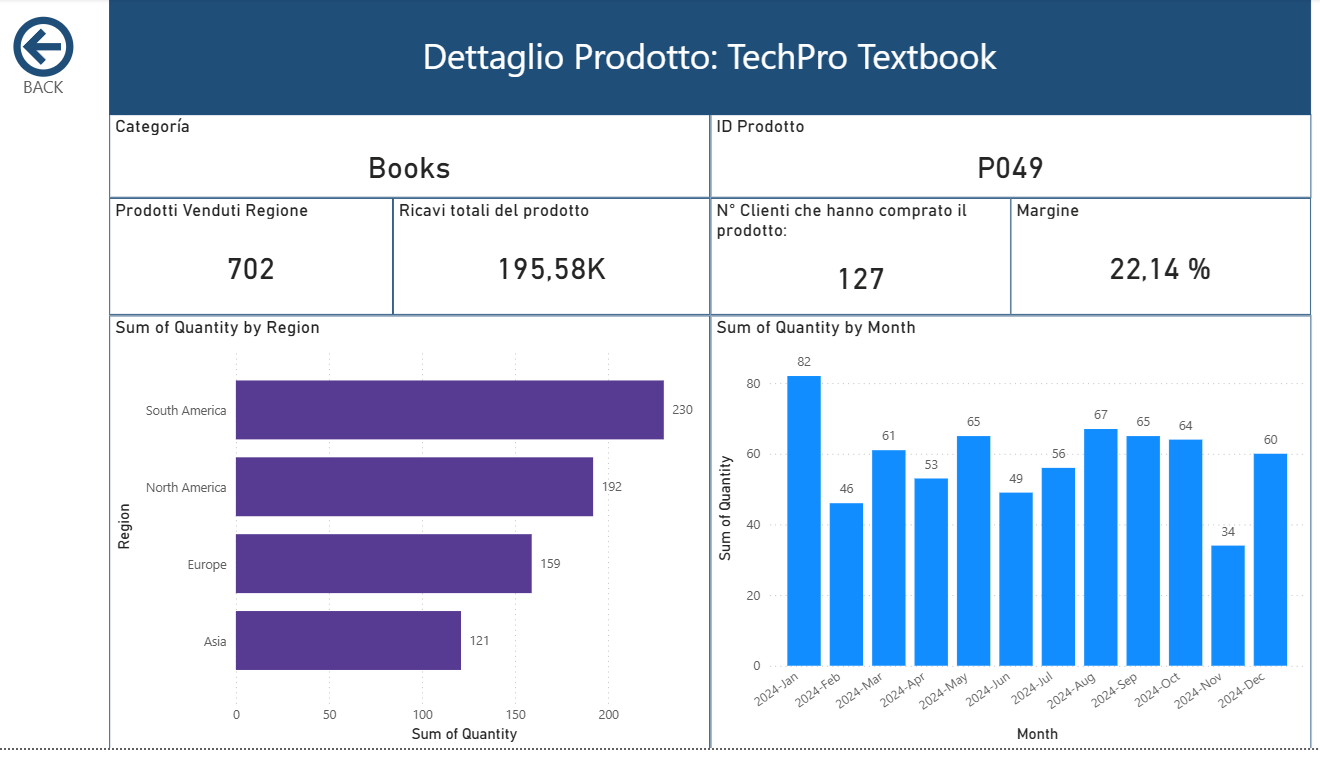

This screenshot's page, from the dashboard's own definition file:
{"tool":"powerbi","page":{"name":"DT Prodotto","canvas":[1280,720],"ordinal":4},"visuals":[{"type":"card","title":" Categoría ","fields":{"Values":["Min(Prodotti.Category)"]},"box":[112,112,576,80],"z":0},{"type":"actionButton","box":[0,0,96,112],"z":1000},{"type":"card","title":"ID Prodotto","fields":{"Values":["Min(Prodotti.ProductID)"]},"box":[688,112,576,80],"z":2000},{"type":"card","title":"Prodotti Venduti Regione","fields":{"Values":["Sum(Transazioni.Quantity)"]},"box":[112,192,272,112],"z":3000},{"type":"card","title":"Ricavi totali del prodotto","fields":{"Values":["Transazioni.Ricavi"]},"box":[384,192,304,112],"z":4000},{"type":"card","title":"N° Clienti che hanno comprato il prodotto:","fields":{"Values":["Transazioni.N° Clienti Prodotto"]},"box":[688,192,288,112],"z":5000},{"type":"clusteredBarChart","fields":{"Category":["Clienti.Region"],"Y":["Sum(Transazioni.Quantity)"]},"box":[112,304,576,416],"z":6000},{"type":"clusteredColumnChart","fields":{"Category":["Date.Month"],"Y":["Sum(Transazioni.Quantity)"]},"box":[688,304,576,416],"z":7000},{"type":"card","fields":{"Values":["Clienti.Titolo DT Prodotto"]},"box":[112,0,1152,112],"z":8000},{"type":"card","title":"Margine","fields":{"Values":["Transazioni.Margine %"]},"box":[976,192,288,112],"z":9000}]}

Visuals, with their boxes in screenshot pixels (x1, y1, x2, y2), scaled from the page's 1280x720 canvas onto the 1320x757 screenshot:
" Categoría " card: (left=116, top=118, right=710, bottom=202)
actionButton: (left=0, top=0, right=99, bottom=118)
"ID Prodotto" card: (left=710, top=118, right=1304, bottom=202)
"Prodotti Venduti Regione" card: (left=116, top=202, right=396, bottom=320)
"Ricavi totali del prodotto" card: (left=396, top=202, right=710, bottom=320)
"N° Clienti che hanno comprato il prodotto:" card: (left=710, top=202, right=1006, bottom=320)
clusteredBarChart - Clienti.Region x Sum(Transazioni.Quantity): (left=116, top=320, right=710, bottom=756)
clusteredColumnChart - Date.Month x Sum(Transazioni.Quantity): (left=710, top=320, right=1304, bottom=756)
card - Clienti.Titolo DT Prodotto: (left=116, top=0, right=1304, bottom=118)
"Margine" card: (left=1006, top=202, right=1304, bottom=320)
